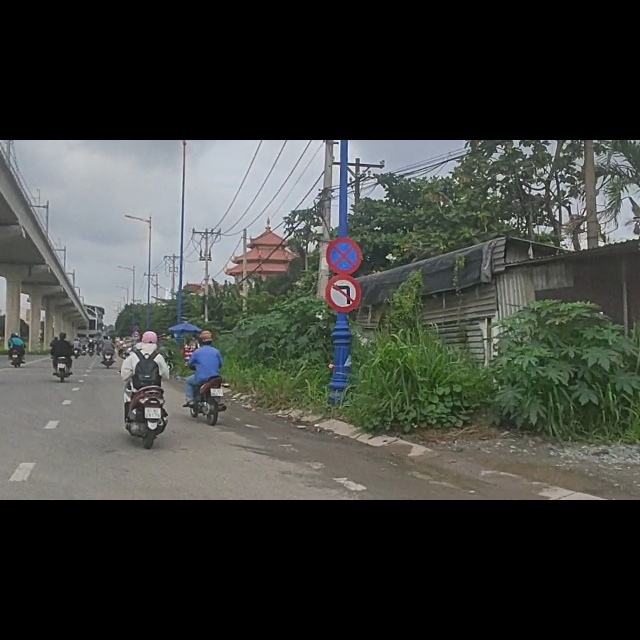bien_cam: (325, 239, 361, 305), (327, 173, 361, 236)
